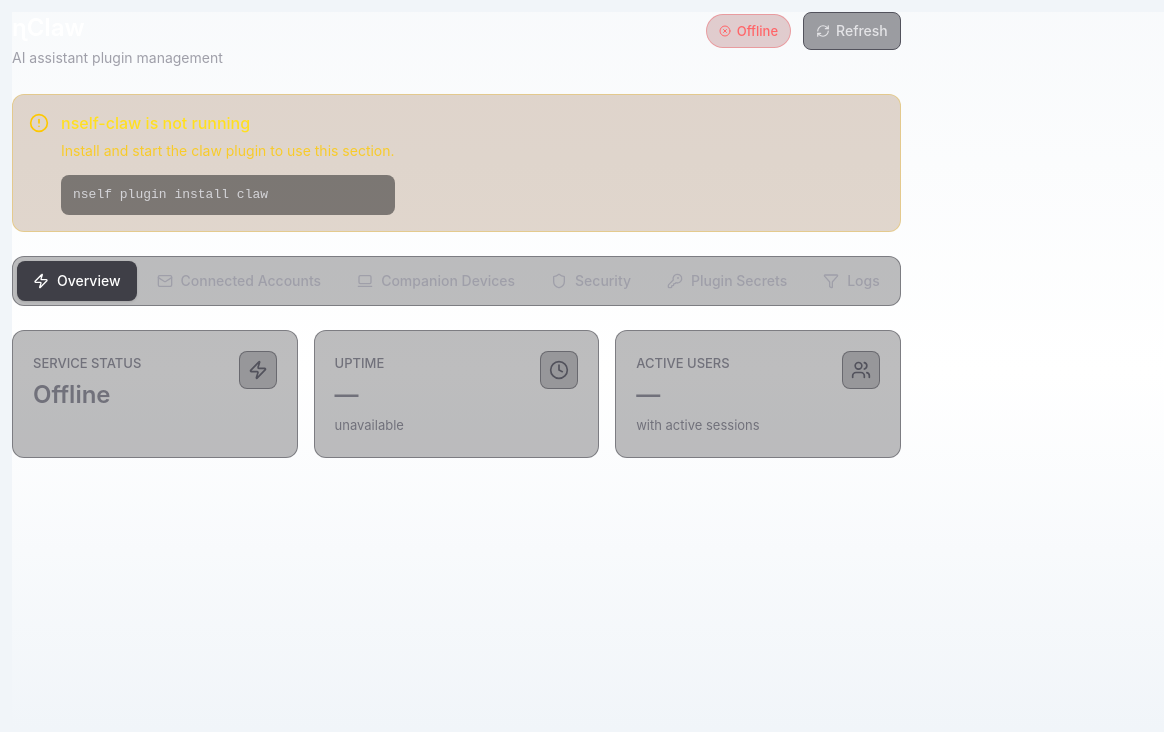
Test: NClawPage › Connected Accounts section shows Add account button
Click the button "Connected Accounts" at (239, 281), box [140, 261, 337, 301]
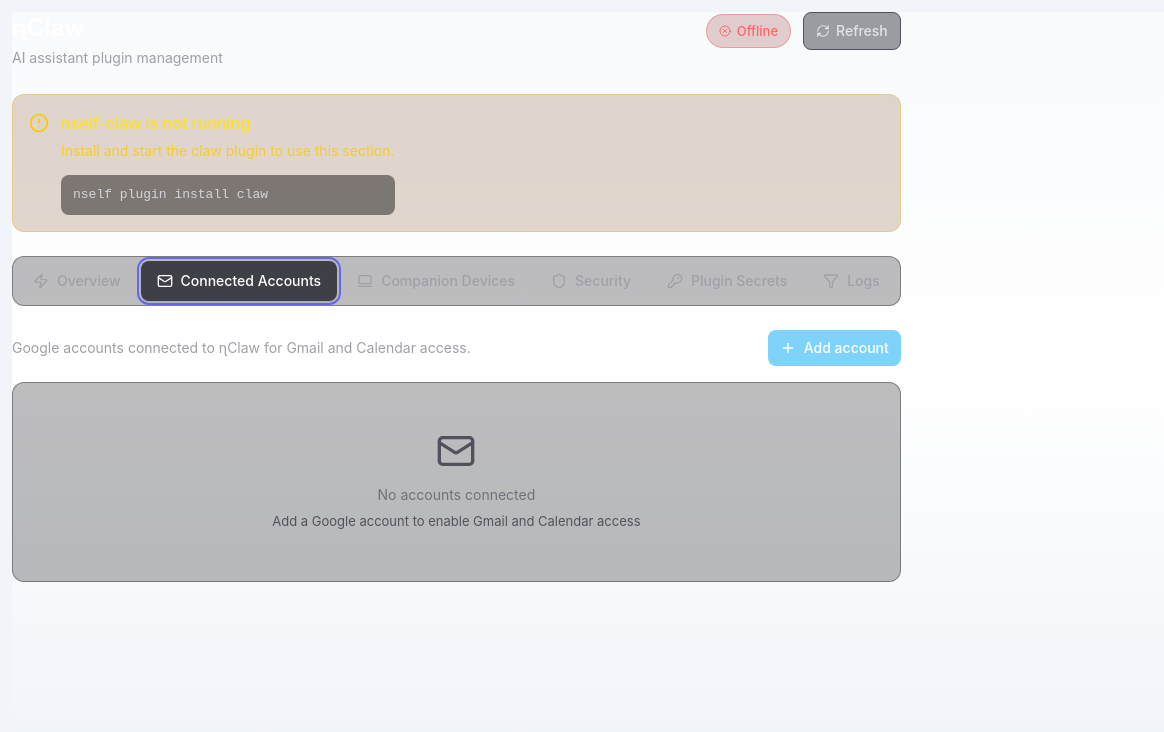
Check: the button "Add account" is shown, box [768, 330, 901, 366]
